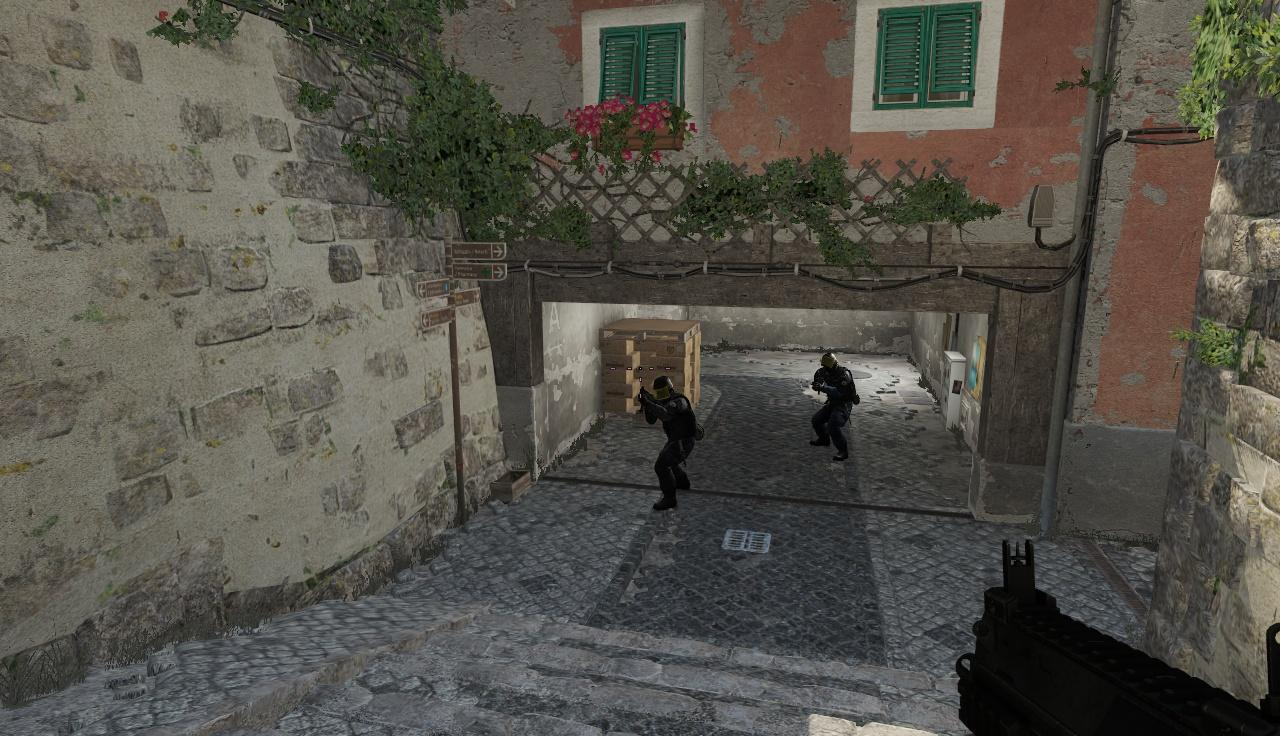ct: (649, 376, 695, 512), (813, 352, 851, 460)
cthead: (652, 376, 674, 401), (820, 353, 838, 371)
rifle: (953, 534, 1280, 736)
